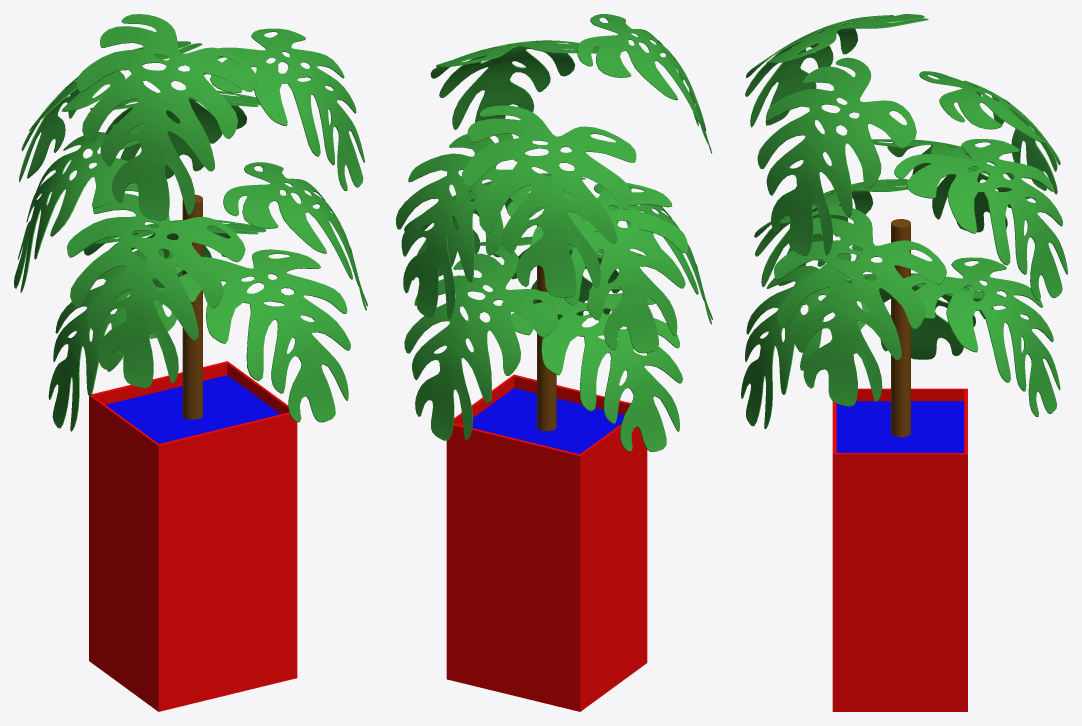
Rendered from Plantbox2.fbx.
3 views of the same model, side by side, from view 1: azimuth 30°, elevation 25°; view 2: azimuth 150°, elevation 25°; view 3: azimuth 270°, elevation 25° (orthographic). The views are drawn at different scales.
Visible parts, largest first — view 1: Cube.001, Plane.020, Plane.015, Plane.012, Plane.016, Plane.017, Plane.014, Plane.011, Plane.019, Plane.018, Cylinder.001, Plane.013; view 2: Cube.001, Plane.019, Plane.013, Plane.014, Plane.011, Plane.018, Plane.016, Plane.020, Cylinder.001, Plane.015, Plane.012, Plane.017; view 3: Cube.001, Plane.017, Plane.016, Plane.018, Plane.013, Plane.012, Plane.020, Plane.019, Cylinder.001, Plane.015, Plane.014, Plane.011.
Part boxes in pixels (box(x1,y1,x2,y2)): Cube.001: box(89, 361, 297, 711); Plane.020: box(76, 14, 257, 220); Plane.015: box(67, 183, 245, 388); Plane.012: box(175, 249, 350, 422); Plane.016: box(203, 28, 364, 190); Plane.017: box(223, 162, 367, 310); Plane.014: box(14, 123, 144, 292); Plane.011: box(48, 249, 176, 431); Plane.019: box(19, 41, 202, 182); Plane.018: box(90, 90, 260, 178); Cylinder.001: box(182, 194, 202, 419); Plane.013: box(83, 220, 265, 304); Cube.001: box(446, 374, 647, 711); Plane.019: box(462, 105, 636, 297); Plane.013: box(404, 245, 558, 440); Plane.014: box(507, 183, 687, 353); Plane.011: box(501, 286, 682, 451); Plane.018: box(396, 133, 541, 318); Plane.016: box(430, 40, 598, 129); Plane.020: box(577, 14, 711, 153); Cylinder.001: box(537, 225, 556, 431); Plane.015: box(580, 184, 712, 324); Plane.012: box(477, 236, 645, 319); Plane.017: box(404, 173, 585, 280); Cube.001: box(832, 388, 967, 711); Plane.017: box(774, 206, 946, 406); Plane.016: box(757, 57, 916, 255); Plane.018: box(894, 139, 1067, 300); Plane.013: box(893, 257, 1060, 416); Plane.012: box(741, 245, 869, 428); Plane.020: box(745, 14, 928, 127); Plane.019: box(919, 71, 1060, 194); Cylinder.001: box(891, 219, 910, 437); Plane.015: box(754, 179, 908, 287); Plane.014: box(872, 139, 1029, 232); Plane.011: box(844, 273, 1004, 359).
Size of the model in its own units: 236 by 247 by 509.
